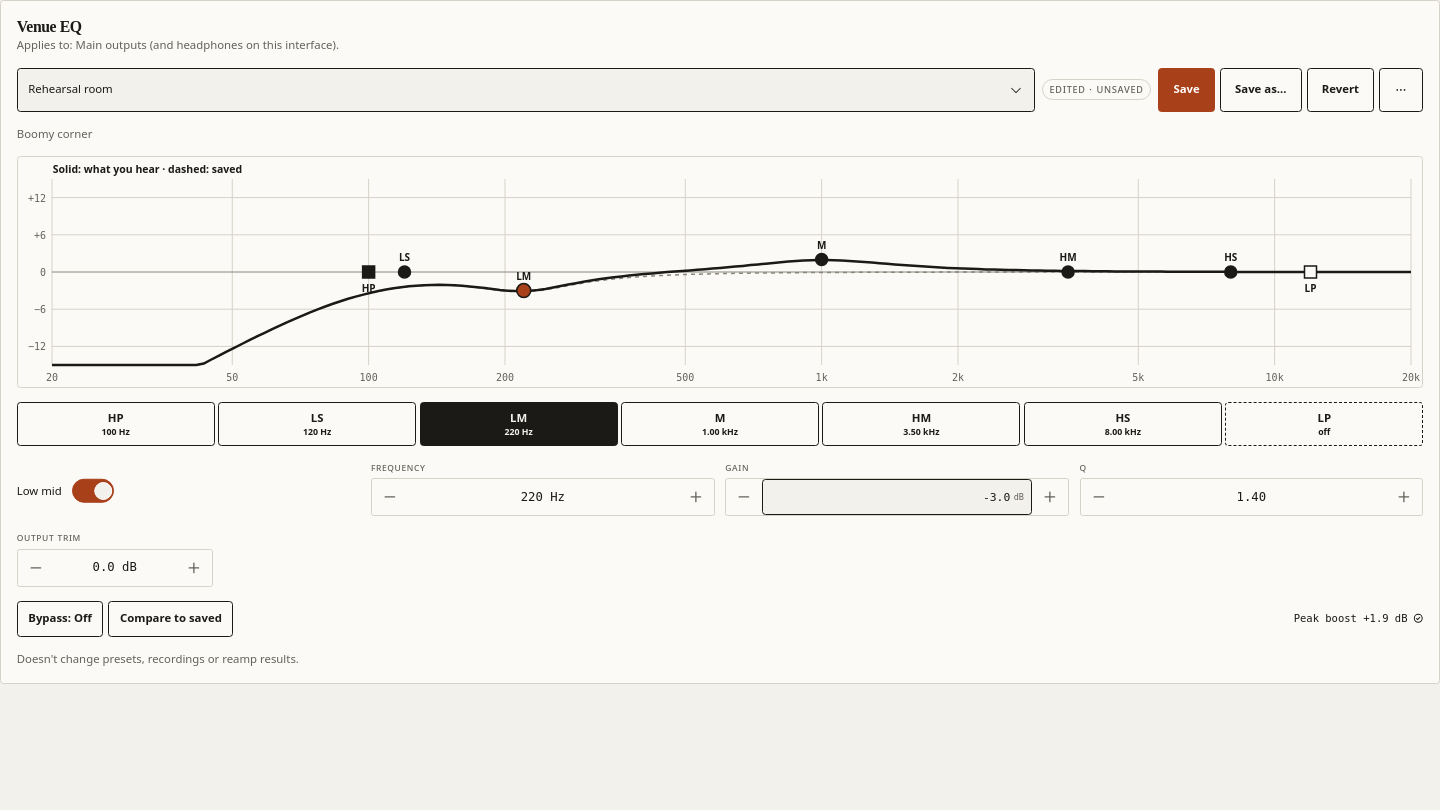
Test: saves as a new profile with a name and notes
Expected: the dropdown named "Venue profile" is shown, 17,68 -> 1035,112
Click the button "Save as…": (1261, 90) 1220,68 -> 1302,112
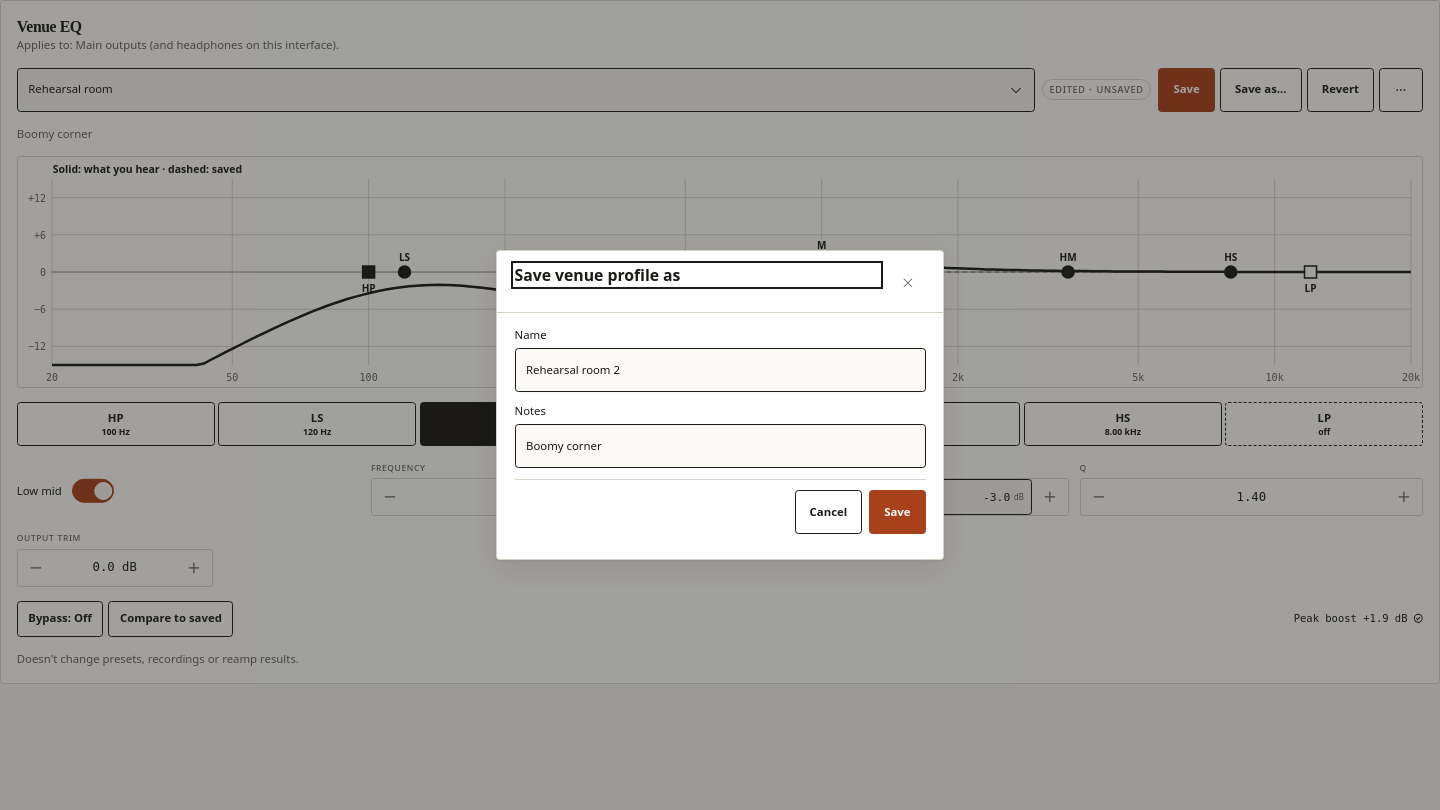
Expected: the field labelled "Name" holds "Rehearsal room 2"
Replace the text in the field labelled "Name" with "Blue Note stage": (720, 370) 514,348 -> 926,392
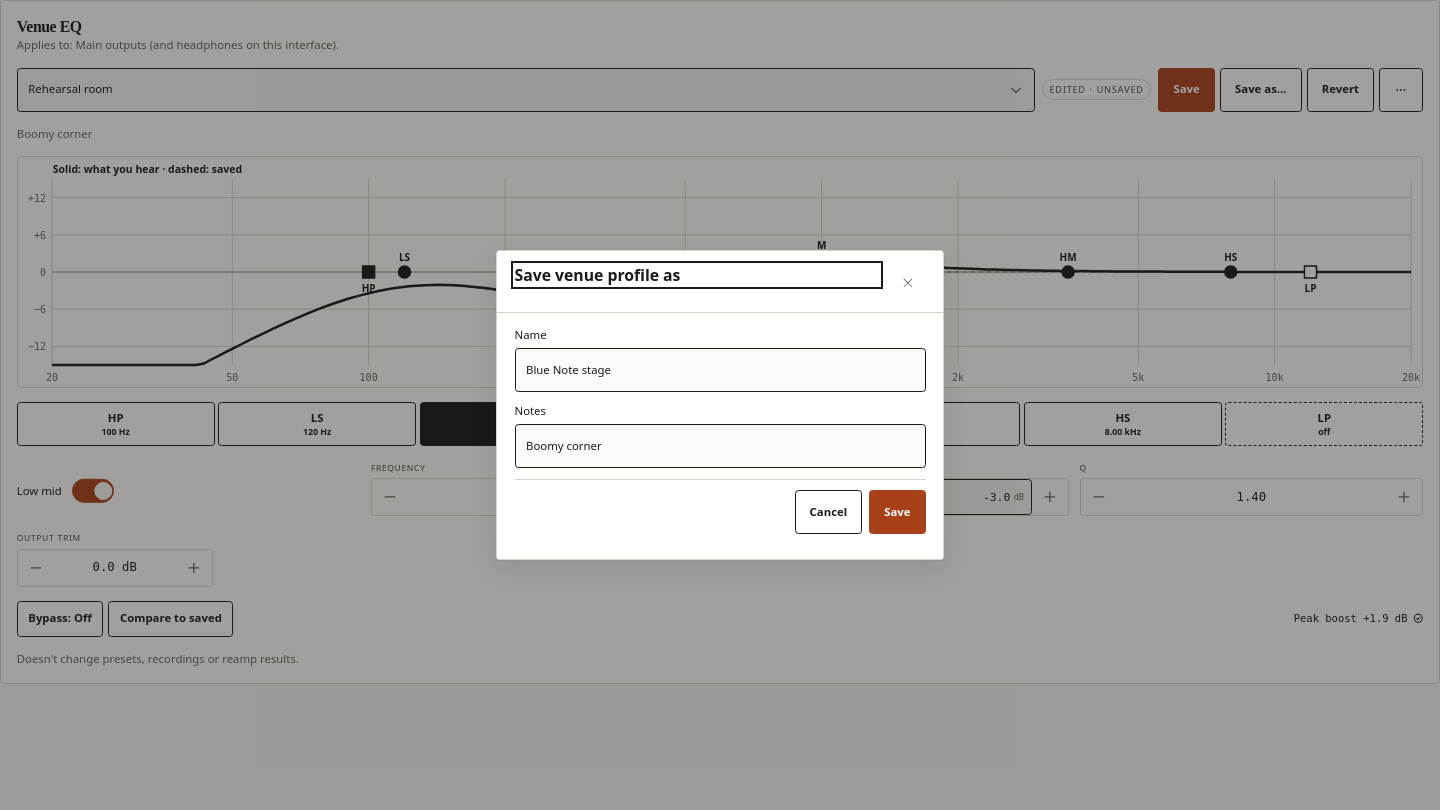
Click the button "Save": (897, 512) 869,490 -> 926,534
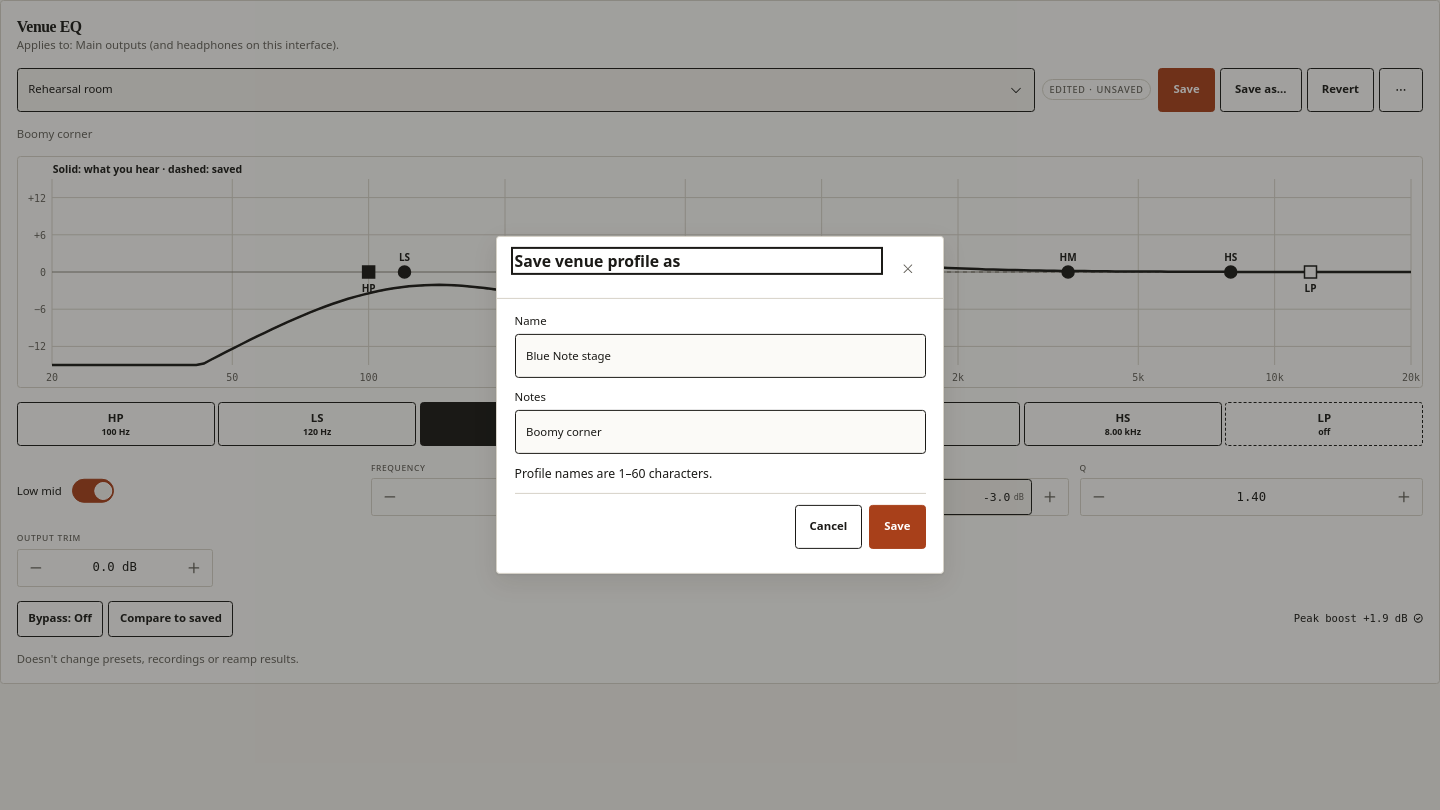
Expected: the message reads "Profile names are 1–60 characters.", 514,465 -> 712,482
Click the button "Save": (897, 527) 869,505 -> 926,549
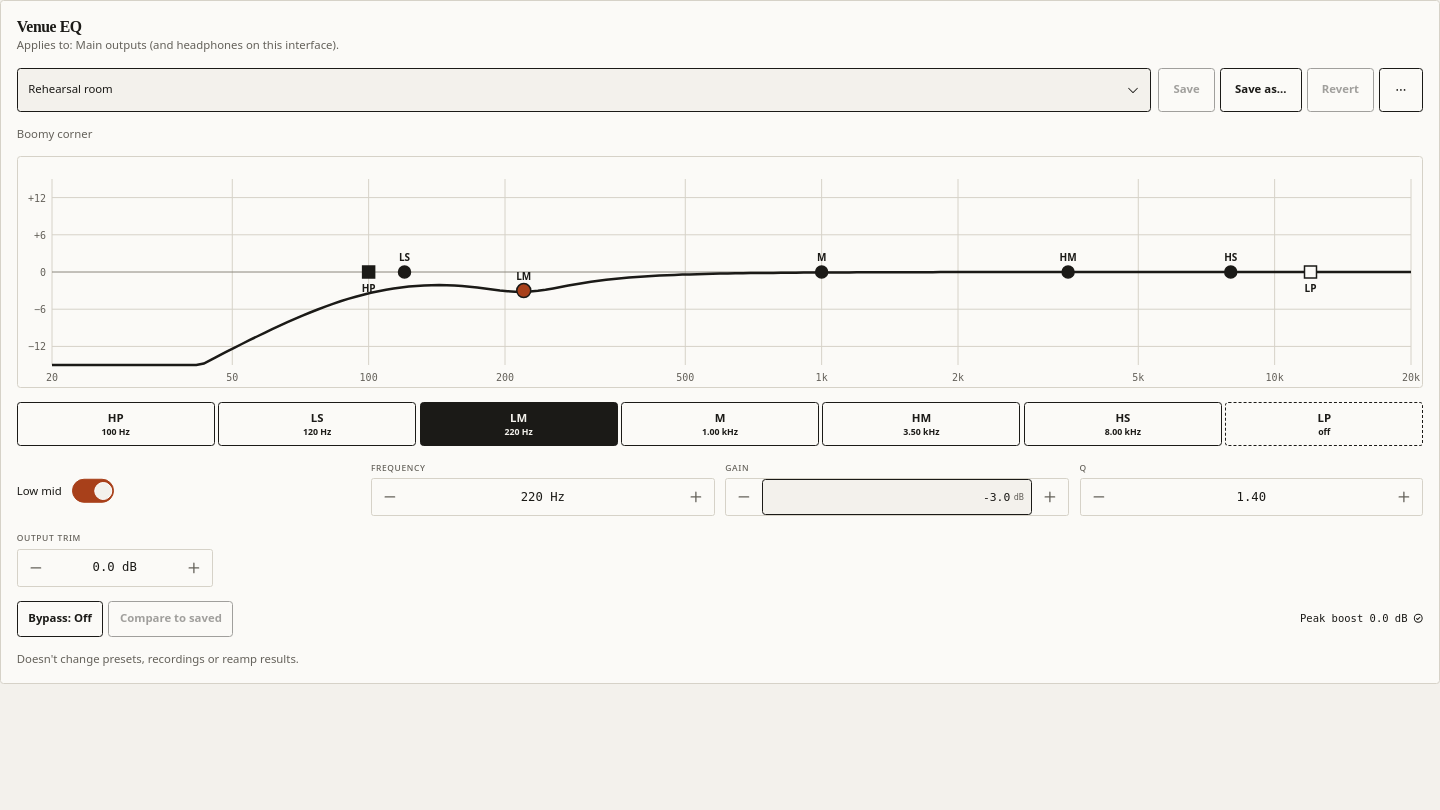
Expected: the dialog is gone
